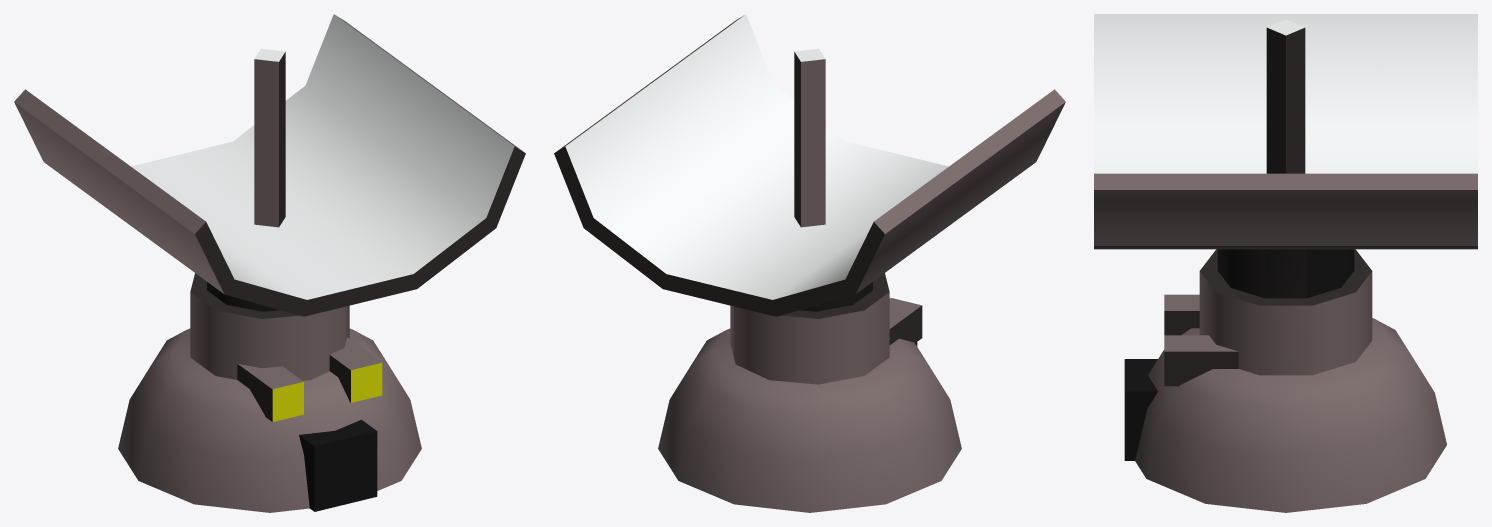
Rendered from Lab.NoirEclipse.Snow.glb.
The picture shows the model from 3 angles, left to right: view 1: azimuth 30°, elevation 25°; view 2: azimuth 150°, elevation 25°; view 3: azimuth 270°, elevation 25°; orthographic projection. The views are drawn at different scales.
Parts seen in each view (by area): view 1: Lab.NoirEclipse.Snow; view 2: Lab.NoirEclipse.Snow; view 3: Lab.NoirEclipse.Snow.
Part boxes in pixels (x1,y1,x2,y2): Lab.NoirEclipse.Snow: (14, 14, 525, 512); Lab.NoirEclipse.Snow: (554, 14, 1065, 512); Lab.NoirEclipse.Snow: (1094, 14, 1477, 512).
Bounding box in the file's own units: 2.11 × 2.41 × 2.
2 materials, 1 textured.
